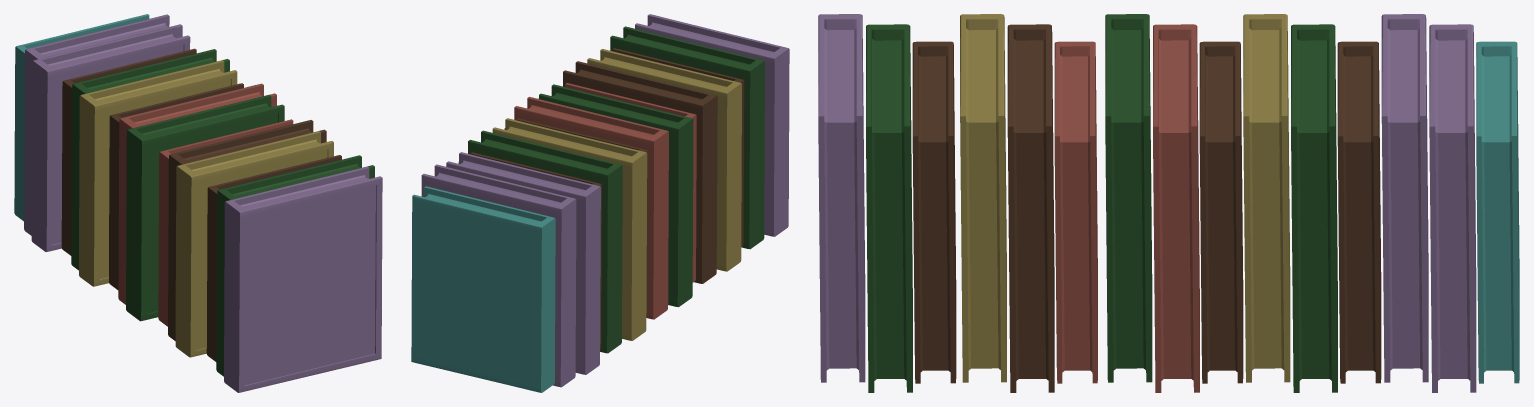
Rendered from books.fbx.
The picture shows the model from 3 angles, left to right: view 1: azimuth 30°, elevation 25°; view 2: azimuth 150°, elevation 25°; view 3: azimuth 270°, elevation 25°; orthographic projection. The views are drawn at different scales.
Parts seen in each view (by area): view 1: polySurface214; view 2: polySurface214; view 3: polySurface214.
Part boxes in pixels (x1=…): polySurface214: x1=14, y1=14, x2=382, y2=392; polySurface214: x1=411, y1=14, x2=789, y2=392; polySurface214: x1=818, y1=14, x2=1519, y2=392.
Bounding box in the file's own units: 3.41 × 3.98 × 9.34.
